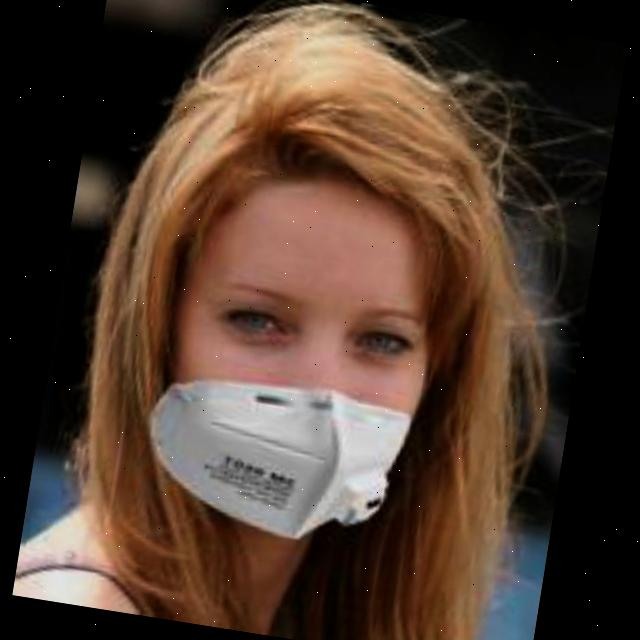suspicion: (120, 97, 500, 566)
